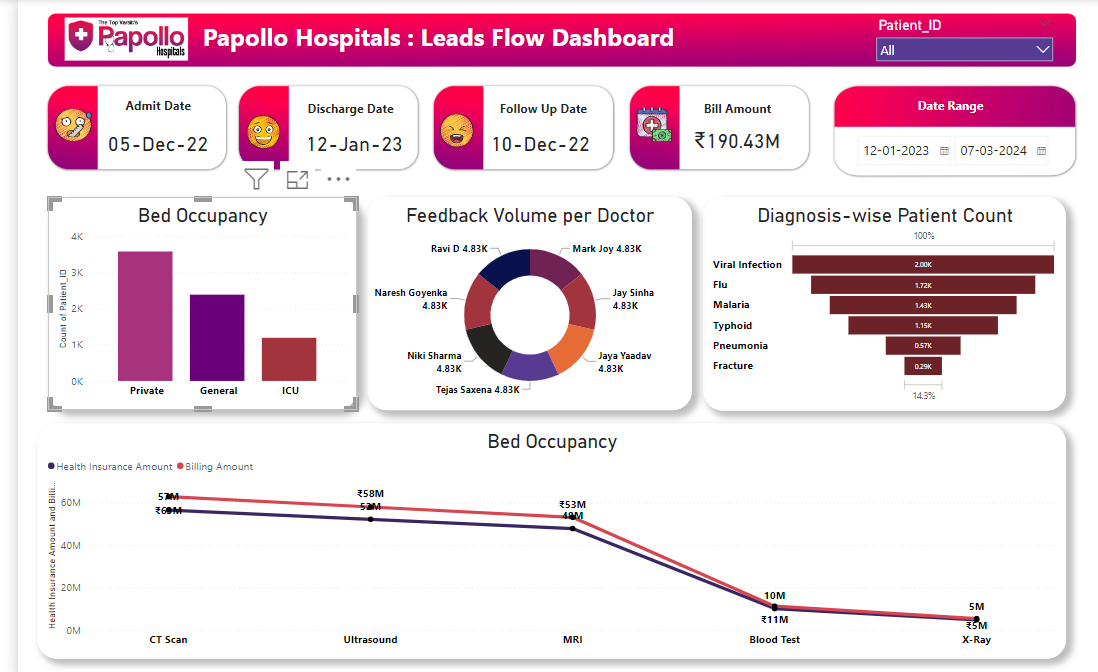

The page's visual inventory and layout, read from the dashboard file:
{"tool":"powerbi","page":{"name":"Page 2","canvas":[1680,1050],"ordinal":0},"visuals":[{"type":"textbox","box":[280,27.1,755.7,74.3],"z":0},{"type":"image","box":[2636.7,100,623.3,150],"z":1000},{"type":"slicer","fields":{"Values":["Sheet1.Patient_ID"]},"box":[2400,373.3,793.3,420],"z":2000},{"type":"card","fields":{"Values":["Min(Sheet1.Admit_Date)"]},"box":[437.6,198.8,162.9,42.8],"z":3000},{"type":"card","fields":{"Values":["Min(Sheet1.Discharge_Date)"]},"box":[129.8,198.8,172.6,42.8],"z":4000},{"type":"card","fields":{"Values":["Min(Sheet1.Followup Date)"]},"box":[724.3,198.6,167.1,42.9],"z":5000},{"type":"textbox","box":[152.9,145.7,127.1,57.1],"z":6000},{"type":"textbox","box":[437.1,151.4,151.4,37.1],"z":7000},{"type":"textbox","box":[732.9,151.4,158.6,37.1],"z":8000},{"type":"textbox","box":[1035.7,151.4,151.4,37.1],"z":9000},{"type":"card","fields":{"Values":["Sum(Sheet1.Billing Amount)"]},"box":[1031.4,194.3,158.6,42.9],"z":10000},{"type":"image","box":[50,157.1,68.6,74.3],"z":11000},{"type":"image","box":[348.6,172.9,62.9,62.9],"z":12000},{"type":"image","box":[640,171.4,77.1,62.9],"z":13000},{"type":"image","box":[951.4,158.6,65.7,71.4],"z":14000},{"type":"columnChart","title":"Bed Occupancy","fields":{"Category":["Sheet1.Bed_Occupancy"],"Y":["CountNonNull(Sheet1.Patient_ID)"]},"box":[47.1,305.7,477.1,328.6],"z":15000},{"type":"donutChart","title":"Feedback Volume per Doctor","fields":{"Category":["Sheet1.Doctor"],"Y":["Sum(Sheet1.Feedback)"]},"box":[540.2,305.2,501,329.5],"z":16000},{"type":"funnel","title":"Diagnosis-wise Patient Count","fields":{"Category":["Sheet1.Diagnosis"],"Y":["CountNonNull(Sheet1.Diagnosis)"]},"box":[1060,305.7,560,330],"z":17000},{"type":"image","box":[30,24.3,274.3,77.1],"z":18000},{"type":"lineChart","title":"Bed Occupancy","fields":{"Y":["Sum(Sheet1.Health Insurance Amount)","Sum(Sheet1.Billing Amount)"],"Category":["Sheet1.Test"]},"box":[31.1,656.3,1589.5,363.3],"z":19000},{"type":"slicer","fields":{"Values":["Sheet1.Admit_Date"]},"box":[1284.3,201.2,360.6,68.9],"z":20000},{"type":"slicer","fields":{"Values":["Sheet1.Patient_ID"]},"box":[1317.1,24.3,292.9,82.9],"z":21000},{"type":"textbox","box":[1365.7,145.7,151.4,37.1],"z":22000}]}

Visuals, with their boxes in screenshot pixels (x1, y1, x2, y2), scaled from the page's 1680x1050 canvas onto the 1098x672 screenshot:
textbox: 183:17:677:65
card - Min(Sheet1.Admit_Date): 286:127:392:155
card - Min(Sheet1.Discharge_Date): 85:127:198:155
card - Min(Sheet1.Followup Date): 473:127:583:155
textbox: 100:93:183:130
textbox: 286:97:385:121
textbox: 479:97:583:121
textbox: 677:97:776:121
card - Sum(Sheet1.Billing Amount): 674:124:778:152
image: 33:101:78:148
image: 228:111:269:151
image: 418:110:469:150
image: 622:102:665:147
"Bed Occupancy" columnChart: 31:196:343:406
"Feedback Volume per Doctor" donutChart: 353:195:680:406
"Diagnosis-wise Patient Count" funnel: 693:196:1059:407
image: 20:16:199:65
"Bed Occupancy" lineChart: 20:420:1059:653
slicer - Sheet1.Admit_Date: 839:129:1075:173
slicer - Sheet1.Patient_ID: 861:16:1052:69
textbox: 893:93:992:117
